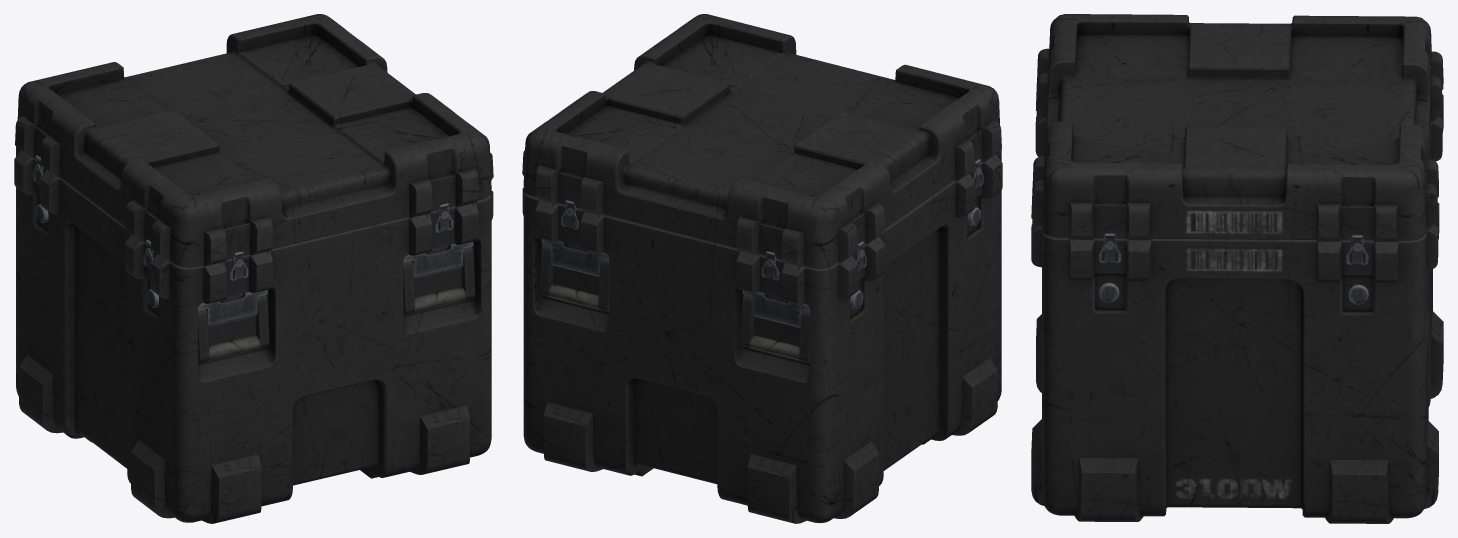
The model's file is case_box.glb.
The picture shows the model from 3 angles, left to right: view 1: azimuth 30°, elevation 25°; view 2: azimuth 150°, elevation 25°; view 3: azimuth 270°, elevation 25°; orthographic projection. The views are drawn at different scales.
Parts seen in each view (by area): view 1: body, lid; view 2: body, lid; view 3: body, lid.
Boxes of the visible parts, x1=… form: body: x1=14, y1=146, x2=493, y2=523; lid: x1=15, y1=14, x2=493, y2=267; body: x1=522, y1=150, x2=1002, y2=523; lid: x1=522, y1=14, x2=1001, y2=268; body: x1=1031, y1=94, x2=1443, y2=523; lid: x1=1031, y1=14, x2=1443, y2=242.
Bounding box in the file's own units: 0.6089 × 0.5679 × 0.5967.
1 material, 1 textured.
